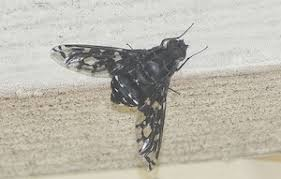insect: (47, 22, 208, 169)
